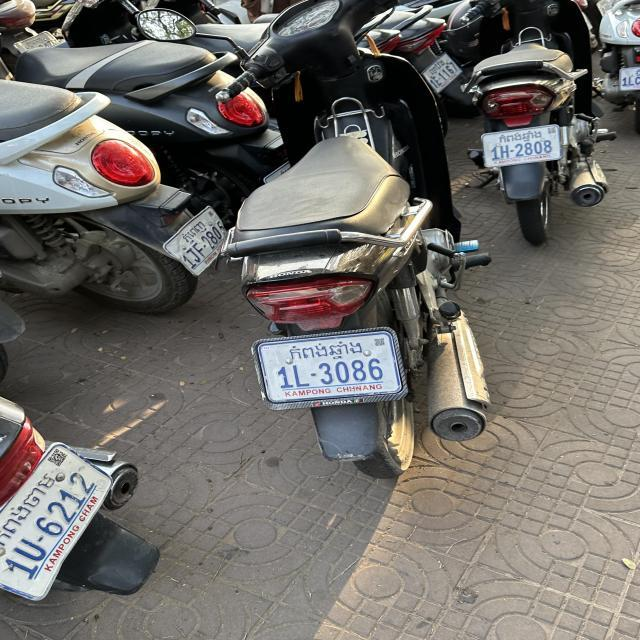Kampong_Chhnang: (288, 337, 367, 362), (499, 129, 543, 144)
Prey_Veng: (427, 60, 444, 75)
